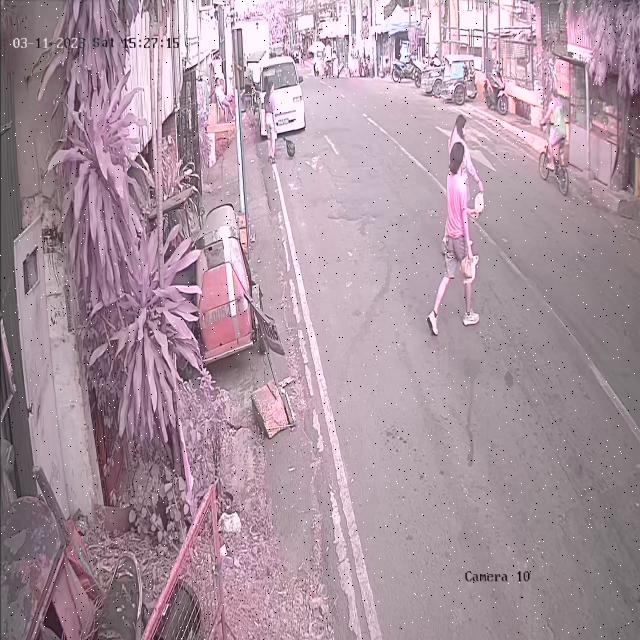garbage_dumping: (462, 254, 482, 289), (474, 188, 485, 214)
